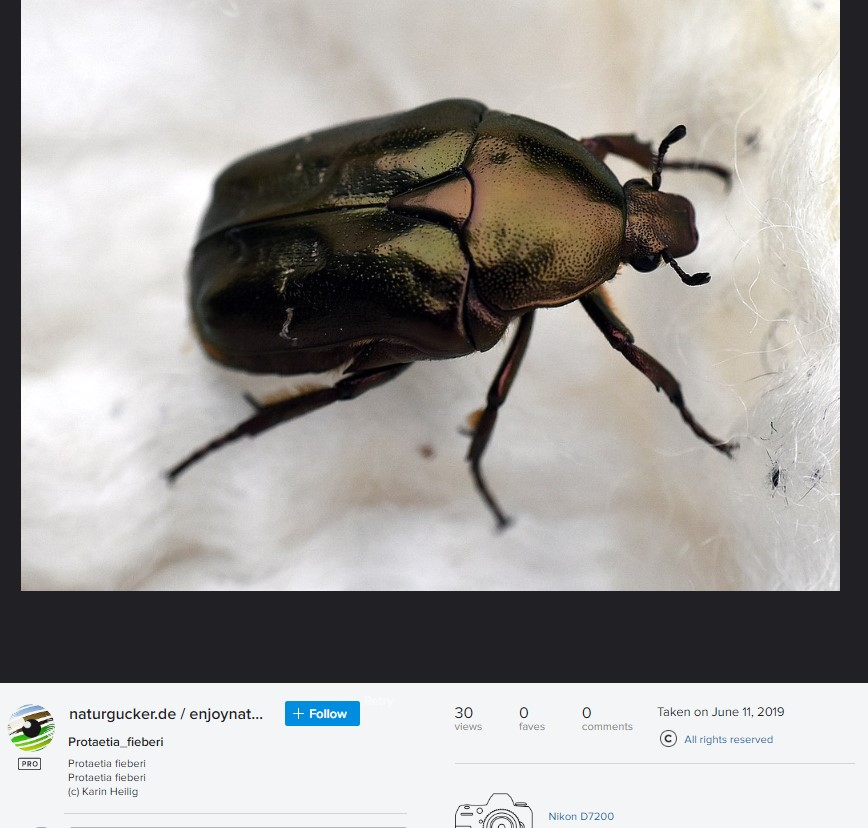Protaetia_fieberi: (154, 91, 748, 547)
